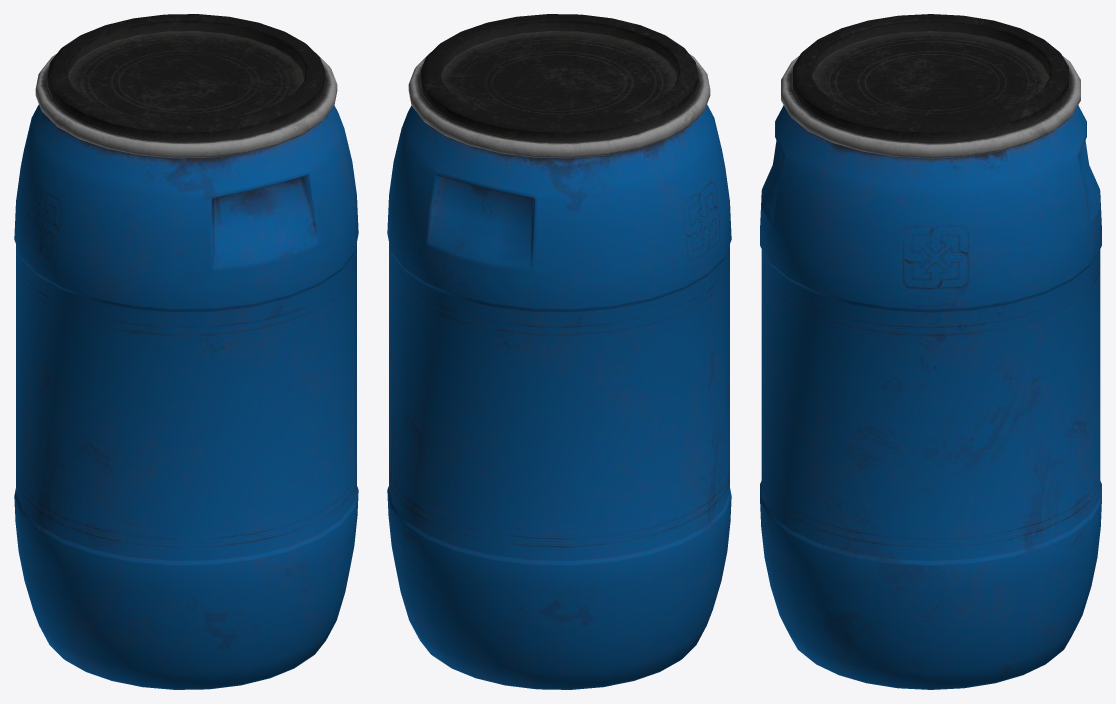
File: Barrel_02.gltf
3 views of the same model, side by side, from view 1: azimuth 30°, elevation 25°; view 2: azimuth 150°, elevation 25°; view 3: azimuth 270°, elevation 25° (orthographic).
Parts seen in each view (by area): view 1: Barrel_02; view 2: Barrel_02; view 3: Barrel_02.
Part boxes in pixels (x1,y1,x2,y2): Barrel_02: (14,14,358,689); Barrel_02: (387,14,731,689); Barrel_02: (760,14,1101,689).
Bounding box in the file's own units: 0.4882 × 0.88 × 0.4846.
1 material, 1 textured.
